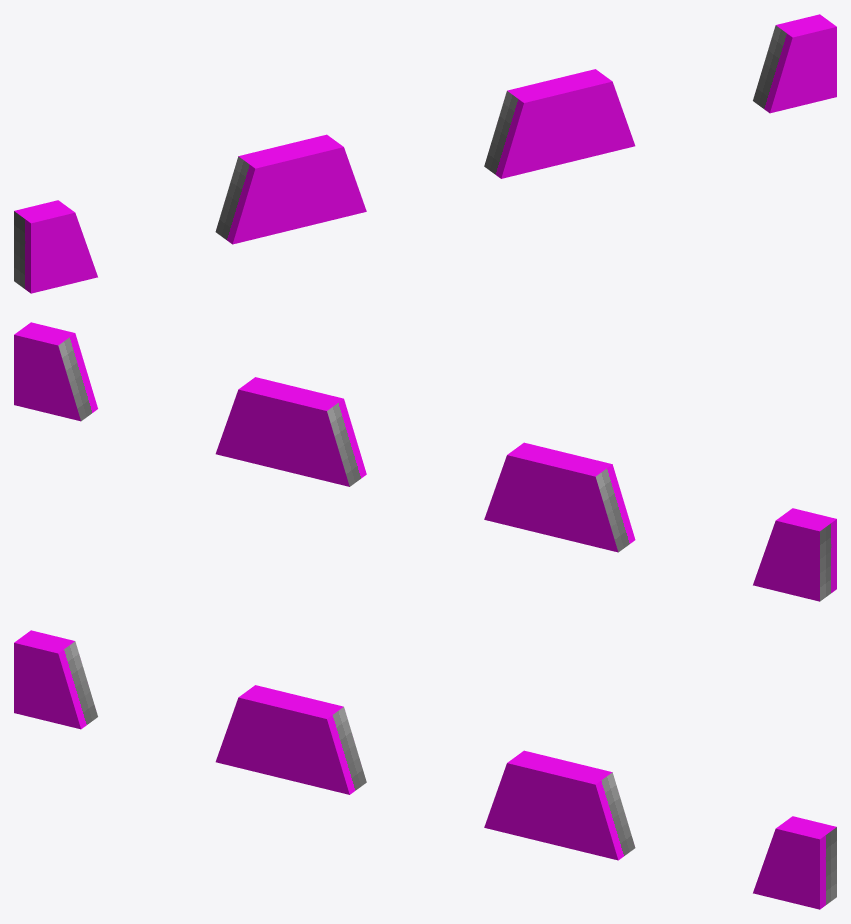
Rendered from hangar_door_down_upper.obj.
The picture shows the model from 3 angles, top to bottom: view 1: azimuth 30°, elevation 25°; view 2: azimuth 150°, elevation 25°; view 3: azimuth 330°, elevation 25°; orthographic projection.
Visible parts, largest first — view 1: Box017, Box019, Box018, Box020; view 2: Box017, Box019, Box018, Box020; view 3: Box019, Box017, Box020, Box018.
Boxes of the visible parts, x1,y1,x2,y2 form: Box017: (484,69,635,178); Box019: (215,134,366,244); Box018: (753,14,836,113); Box020: (14,200,97,293); Box017: (215,377,366,486); Box019: (484,442,635,552); Box018: (14,322,97,421); Box020: (753,508,836,601); Box019: (215,685,366,794); Box017: (484,750,635,860); Box020: (14,630,97,729); Box018: (753,816,836,909).
Size of the model in its own units: 3 by 0.25 by 0.11.
